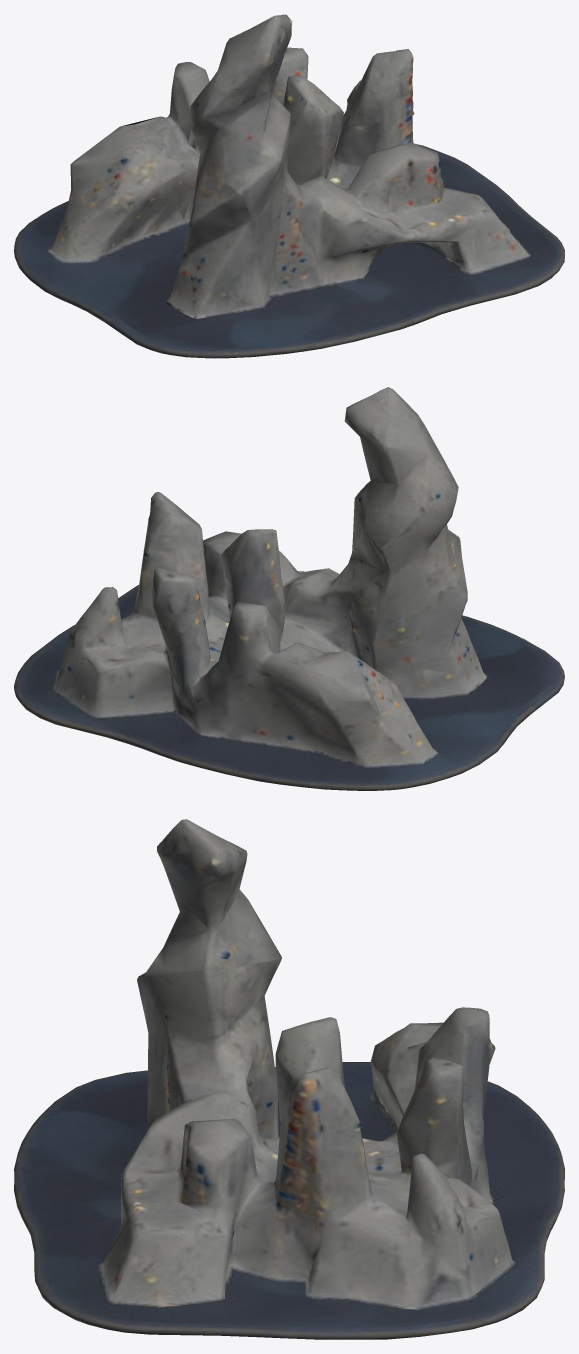
File: maggie_climbing_wall.glb
3 views of the same model, one above another, from view 1: azimuth 30°, elevation 25°; view 2: azimuth 150°, elevation 25°; view 3: azimuth 270°, elevation 25° (orthographic). The views are drawn at different scales.
Visible parts, largest first — view 1: maggie_climbing_wall; view 2: maggie_climbing_wall; view 3: maggie_climbing_wall.
Part boxes in pixels (x1,y1,x2,y2): maggie_climbing_wall: (14,14,564,358); maggie_climbing_wall: (14,387,564,790); maggie_climbing_wall: (14,819,564,1339).
Bounding box in the file's own units: 20 × 12 × 17.
Materials: 1 (1 with a texture image).
